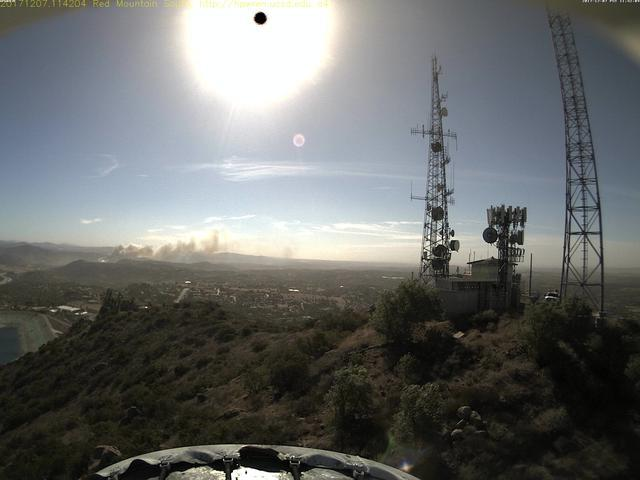smoke: (97, 223, 239, 271)
